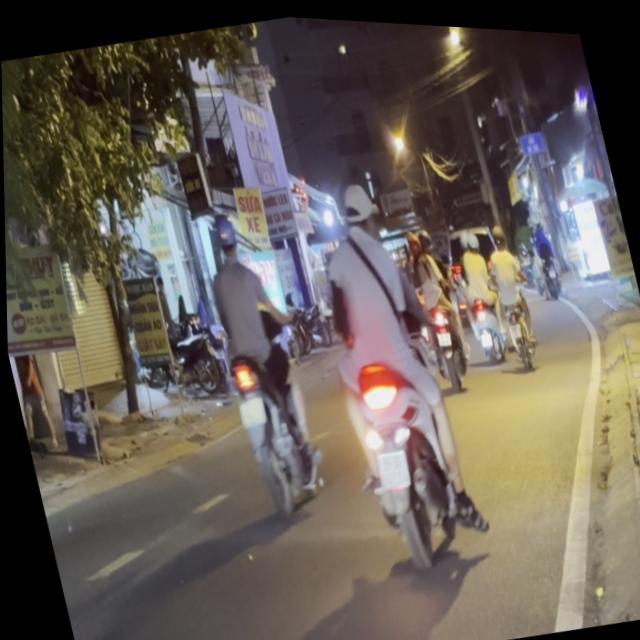helmet: (208, 210, 240, 259)
licenseplate: (287, 157, 496, 598), (187, 199, 332, 526)
motorcyclist: (334, 171, 387, 242)
nohelmet: (371, 443, 409, 486), (235, 393, 265, 423)
